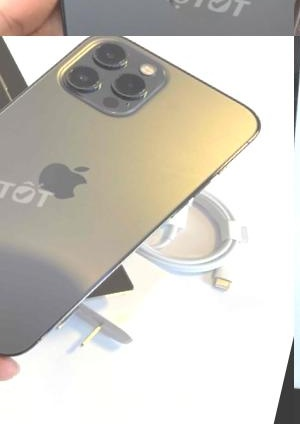scratch: (294, 0, 300, 36)
